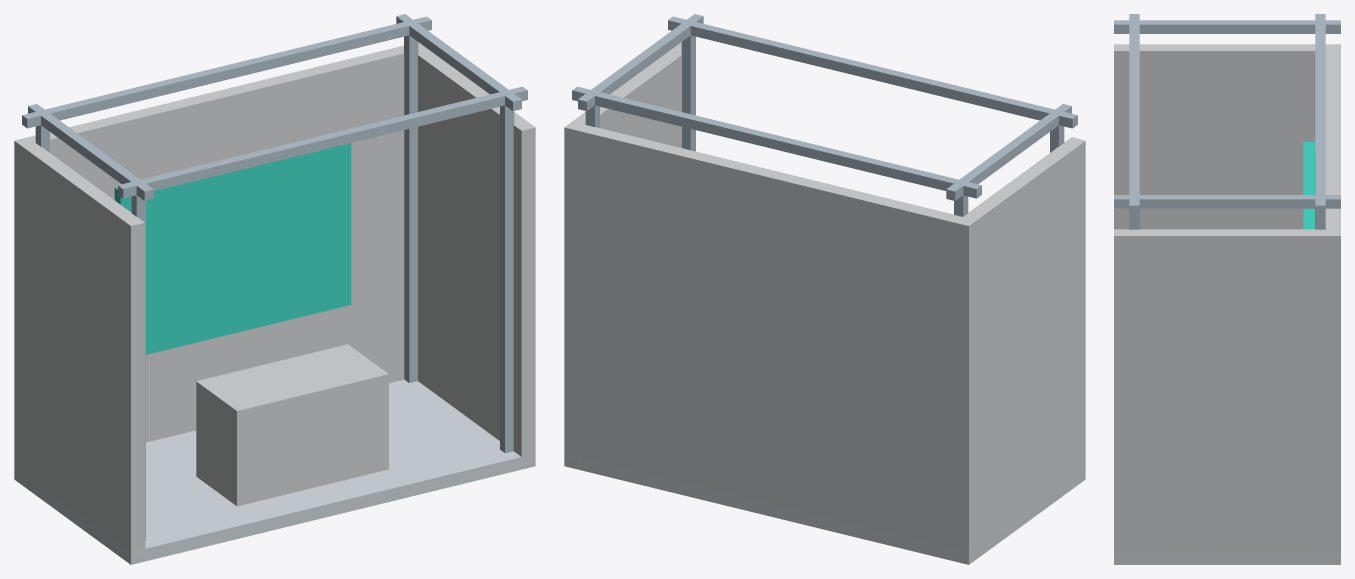
The picture shows the model from 3 angles, left to right: view 1: azimuth 30°, elevation 25°; view 2: azimuth 150°, elevation 25°; view 3: azimuth 270°, elevation 25°; orthographic projection. The views are drawn at different scales.
Visible parts, largest first — view 1: Exhibition Booth Concept; view 2: Exhibition Booth Concept; view 3: Exhibition Booth Concept.
Part boxes in pixels (x1,y1,x2,y2): Exhibition Booth Concept: (14, 14, 535, 564); Exhibition Booth Concept: (564, 14, 1085, 564); Exhibition Booth Concept: (1114, 14, 1340, 564).
Size of the model in its own units: 4 by 3.49 by 2.
